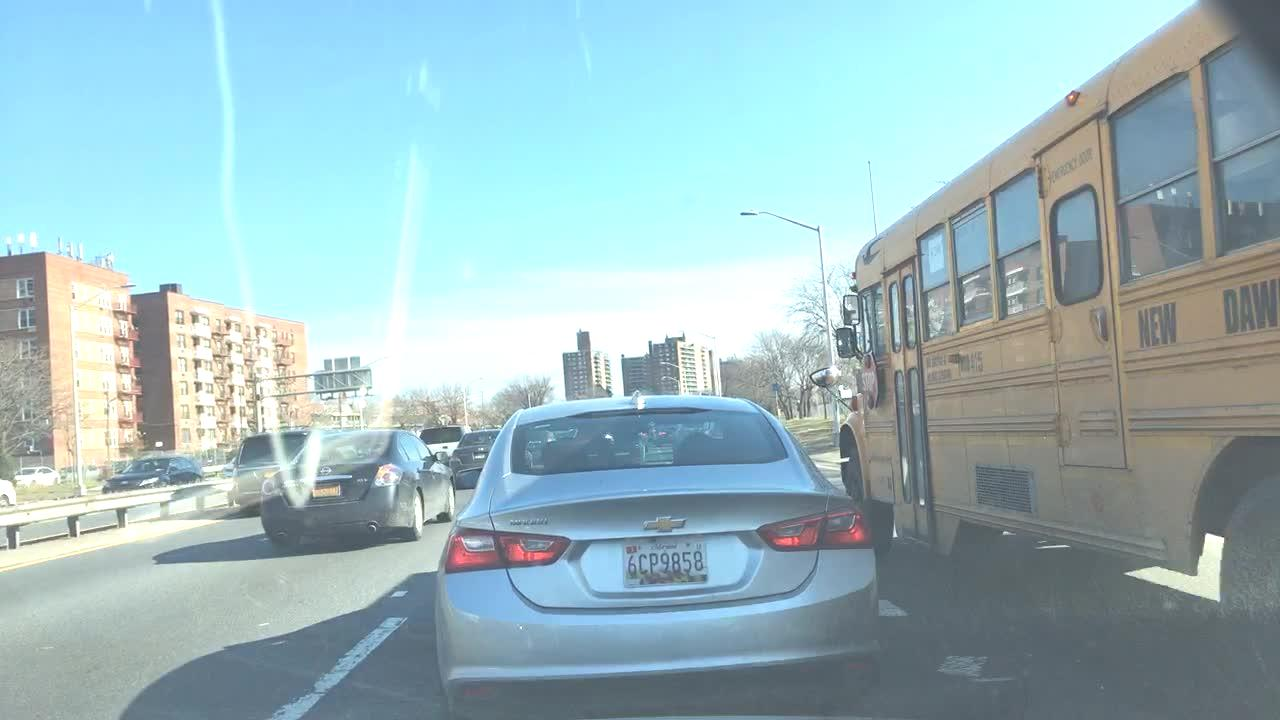chevrolet: (640, 509, 690, 542)
